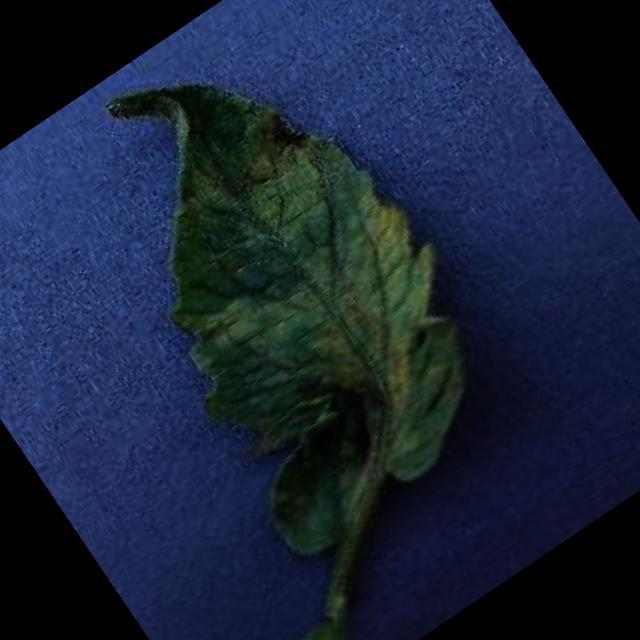Tomato mold leaf: (21, 0, 537, 563)
